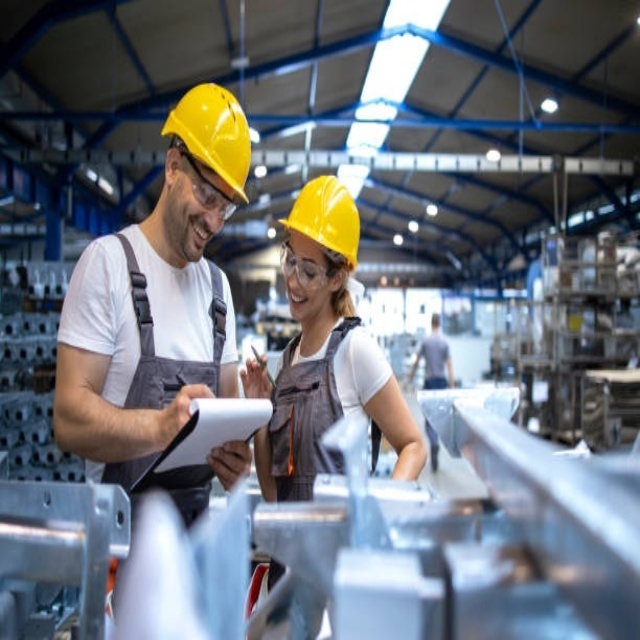Gafas: (179, 151, 240, 224), (280, 241, 337, 290)
Sin_guantes: (161, 373, 216, 447), (207, 433, 251, 488), (241, 353, 274, 400)
Sin_mascara: (184, 216, 215, 259), (284, 281, 311, 323)
